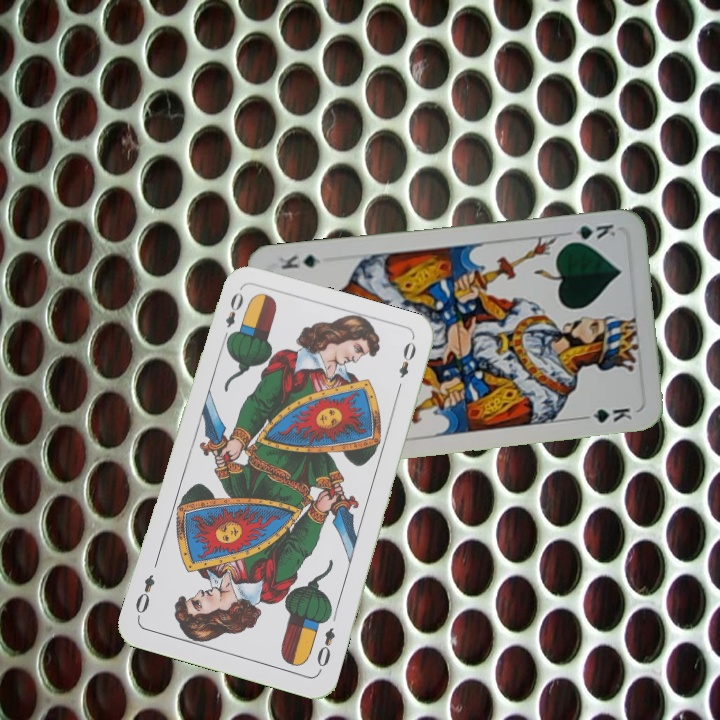EO: (219, 288, 246, 345), (312, 623, 338, 675)
GK: (562, 220, 618, 246)
